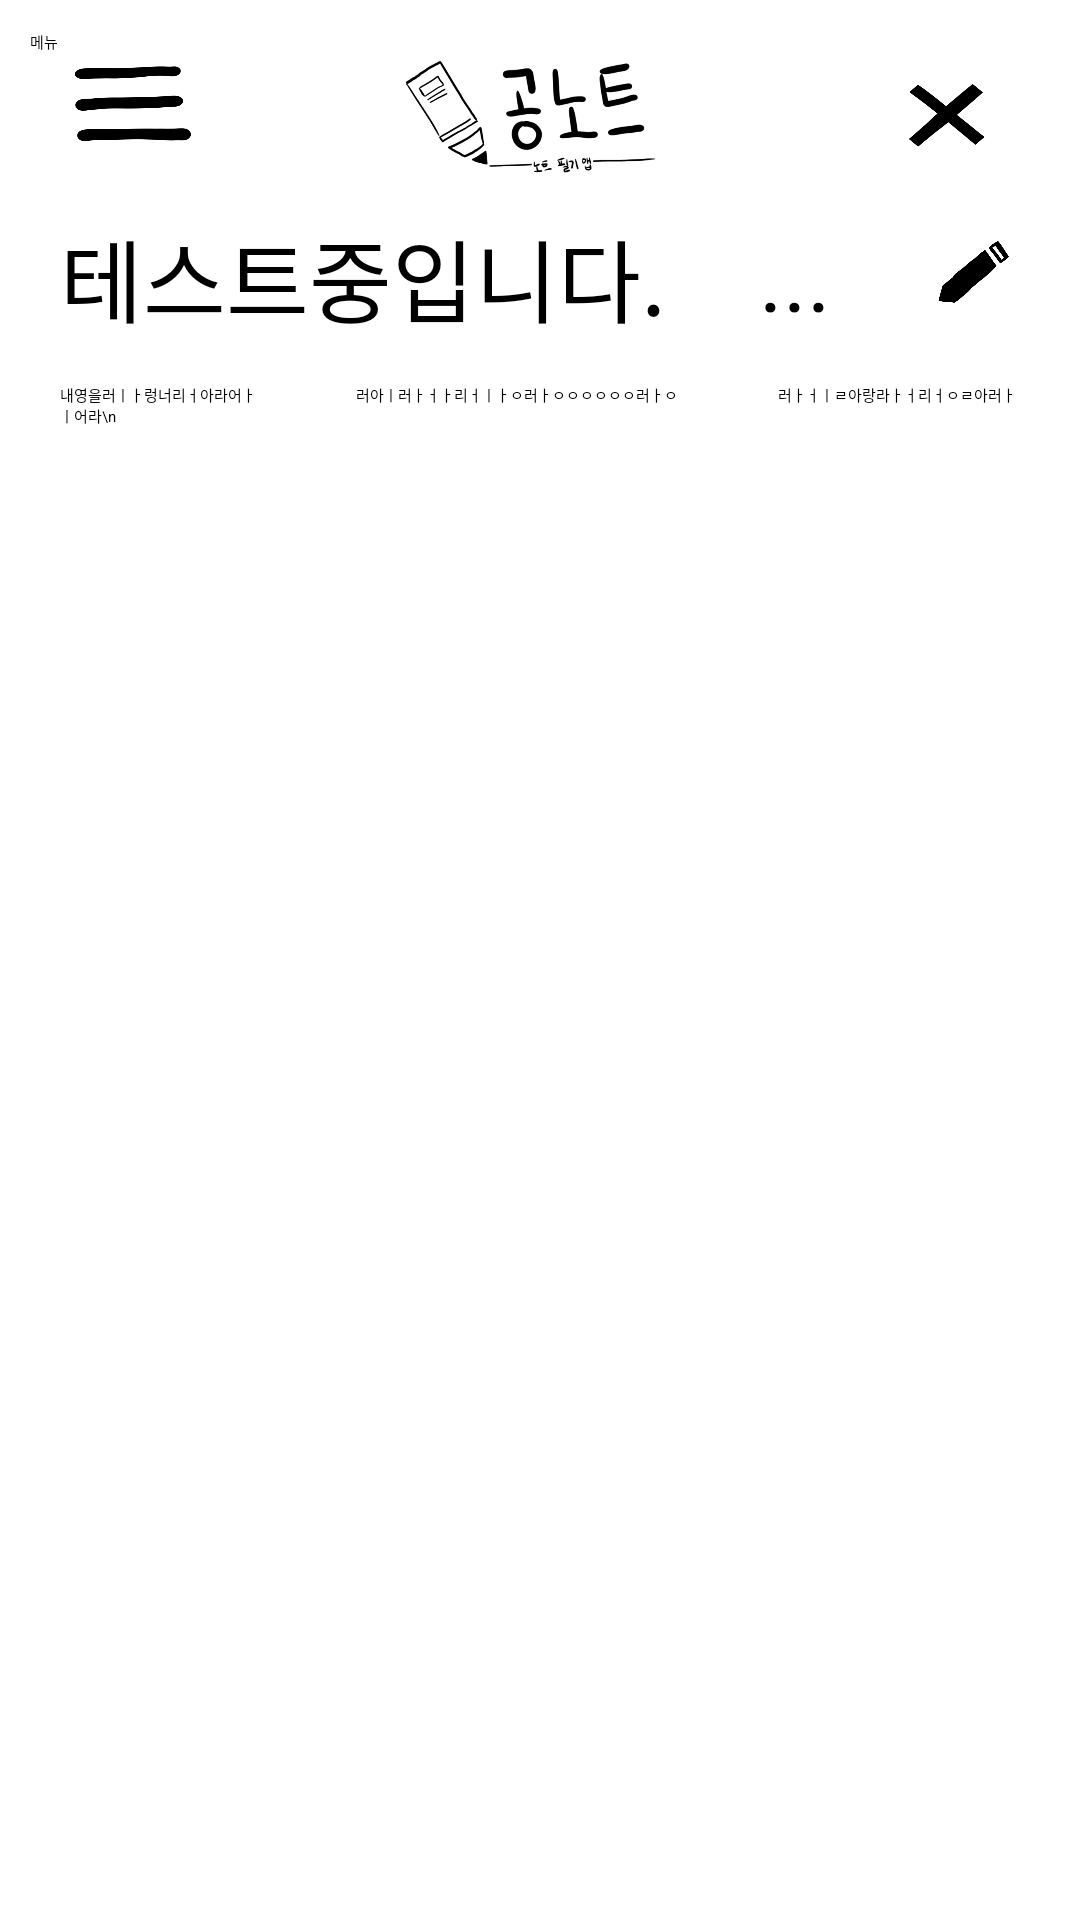

Icons on this 1080px×1920px Android screen, each with its box as BBox(x1, y1, x2, y2):
del: BBox(909, 84, 984, 147)
write: BBox(938, 241, 1009, 303)
